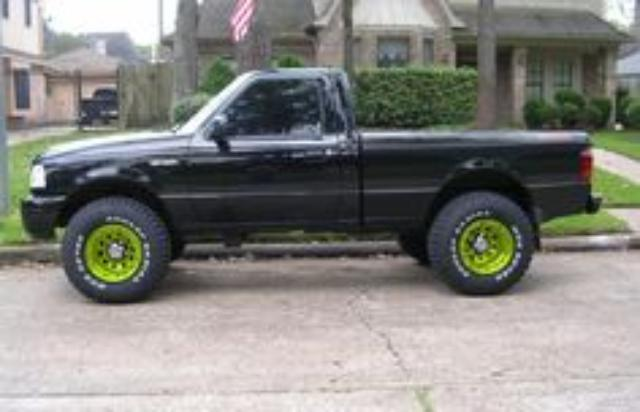pickup-truck: (19, 66, 602, 305)
